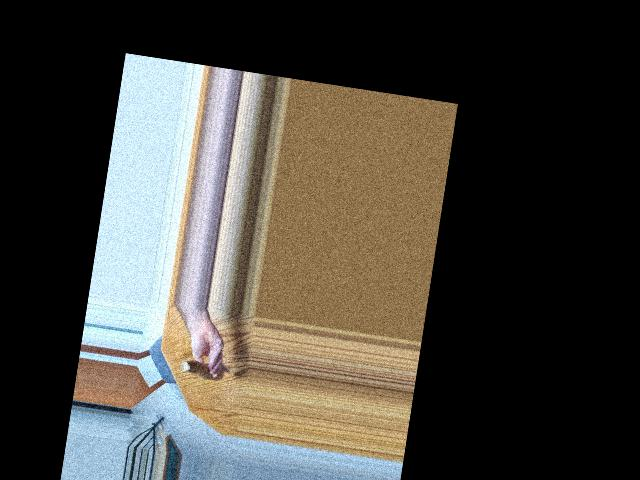sweet_potato: (181, 354, 220, 383)
